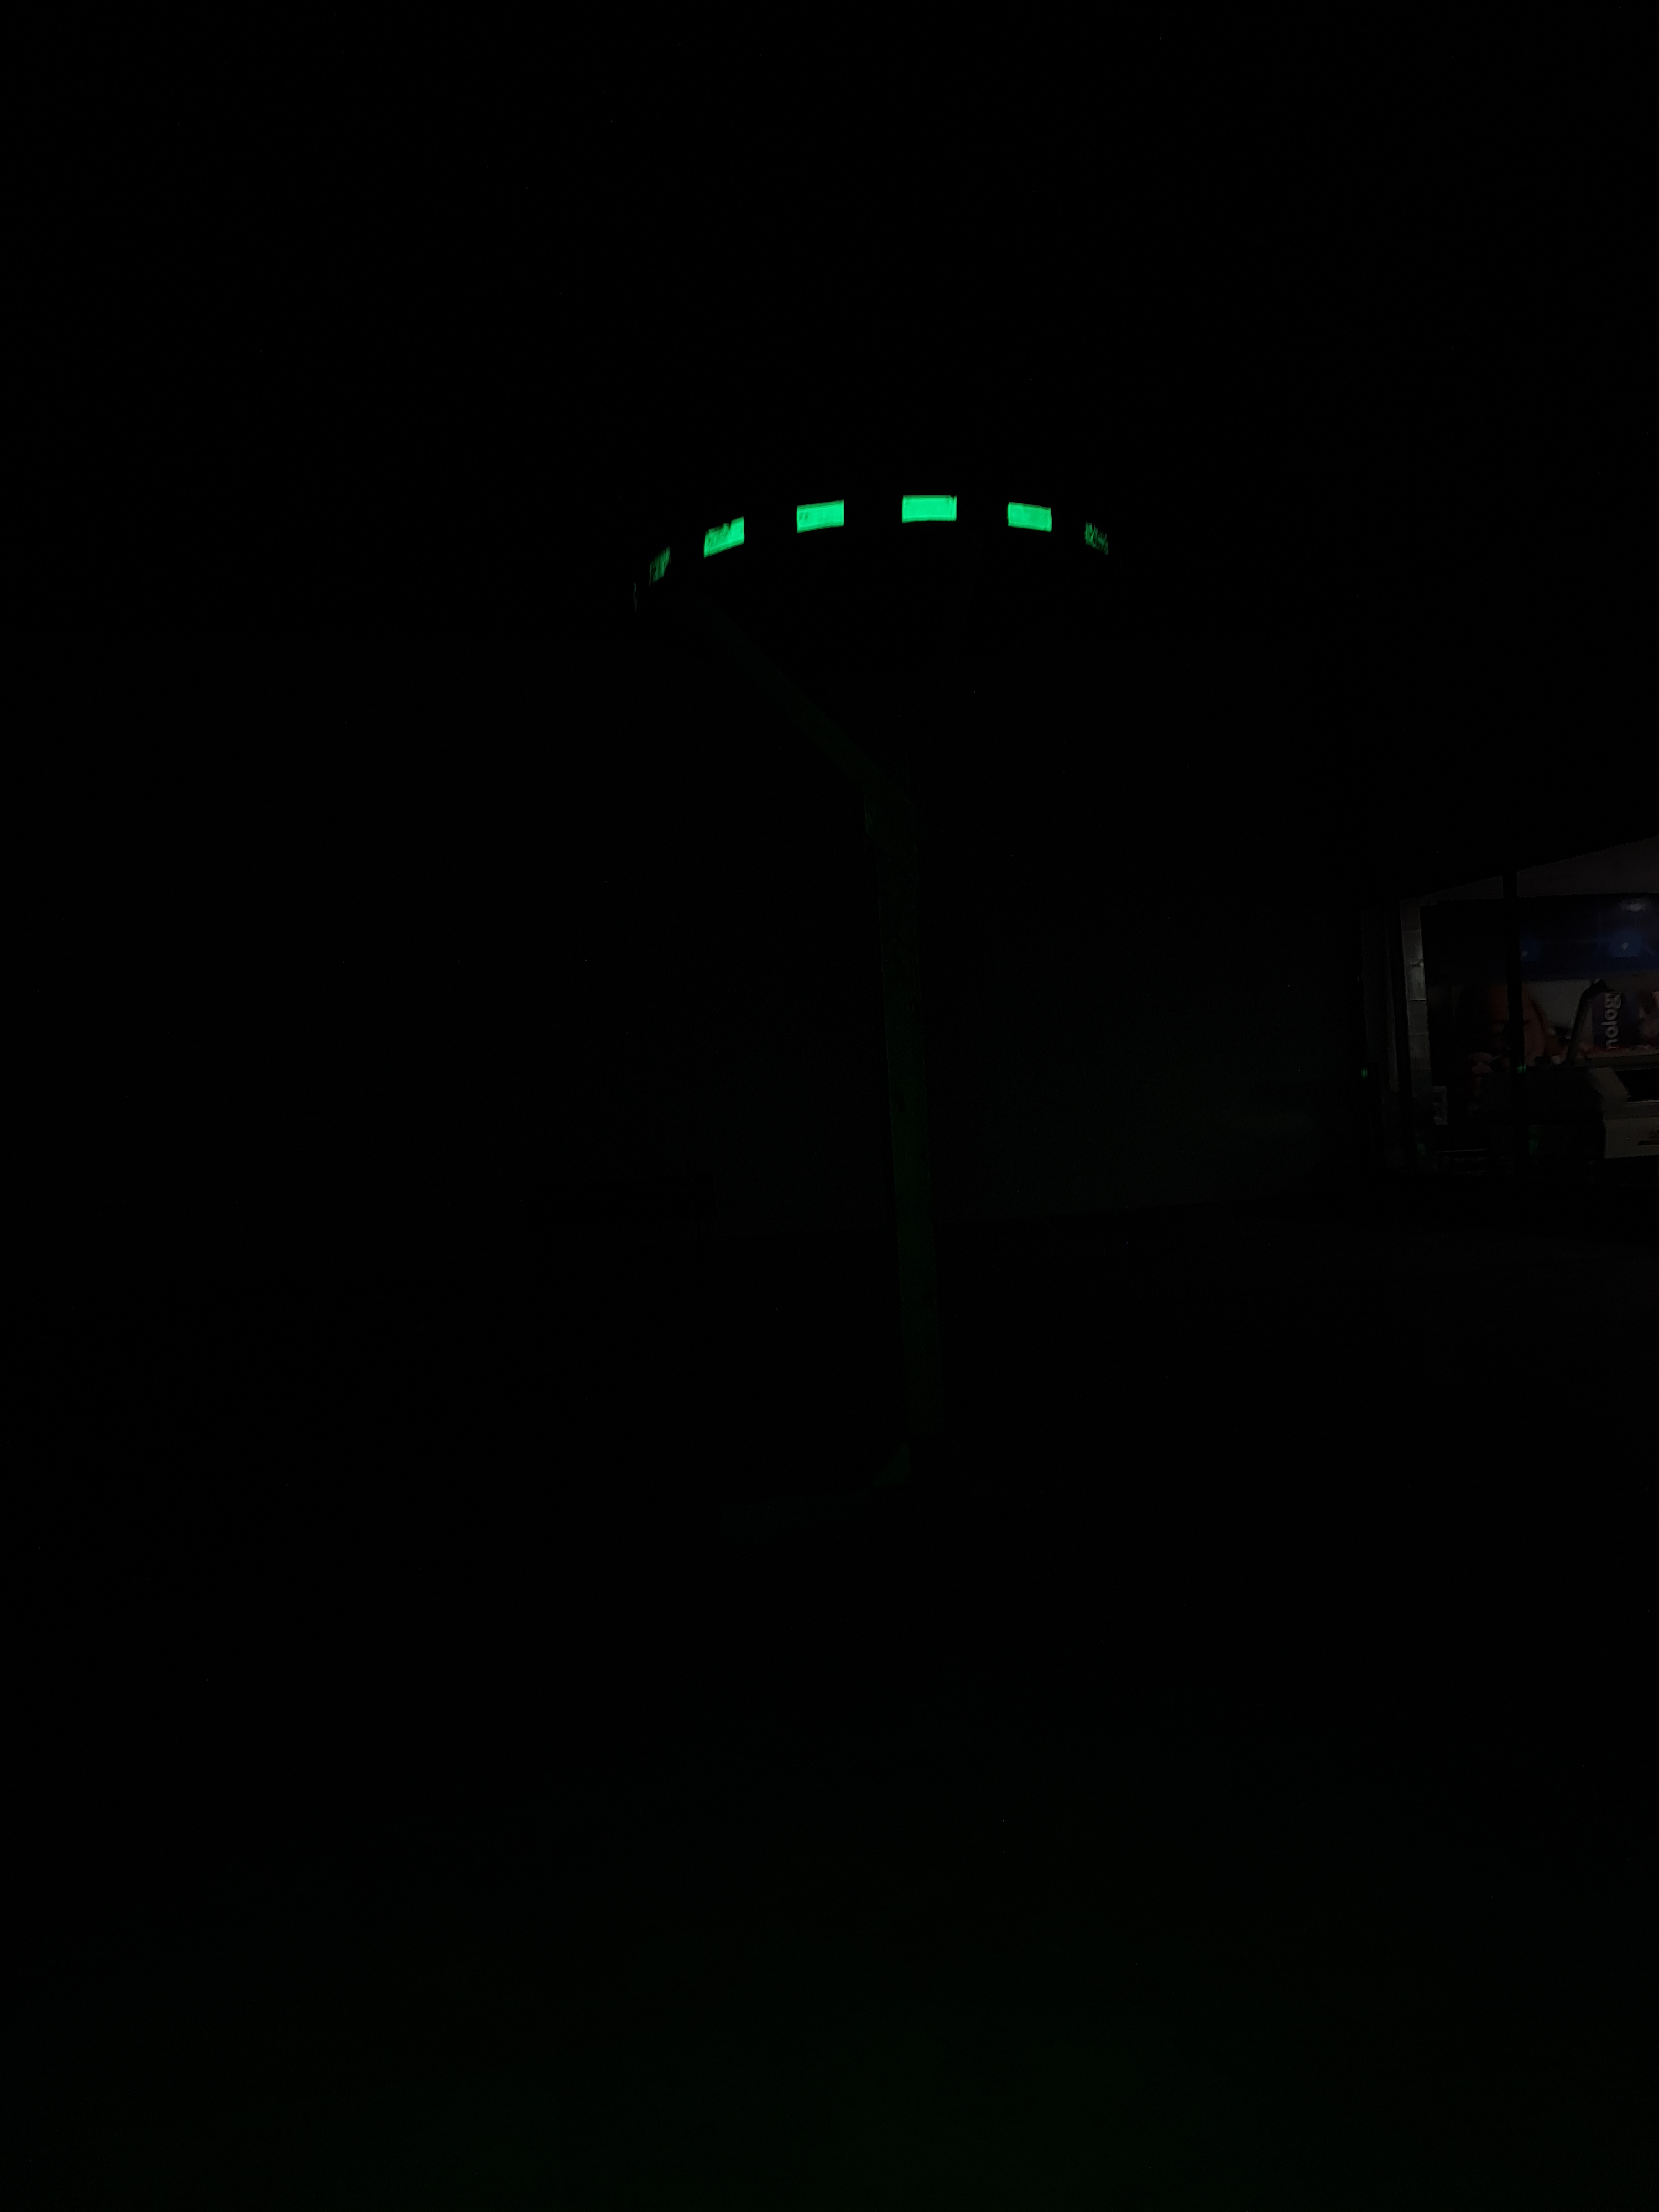hoop: (603, 486, 1145, 585)
